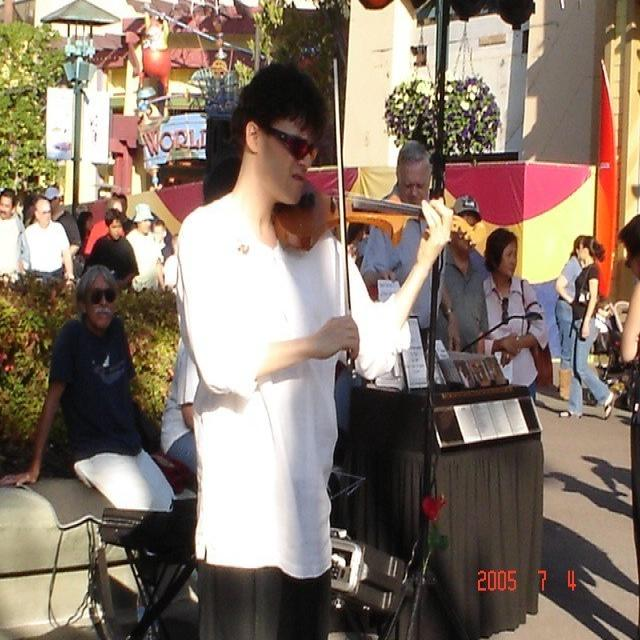violin: (270, 175, 482, 252)
